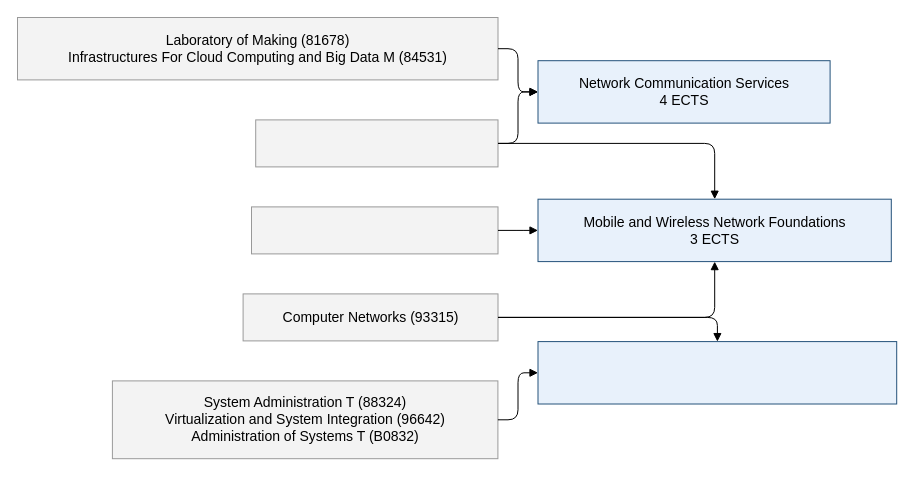
This 915x477 diagram has some shape labels left out. Each missing label, with the centre of its shape:
"Internet of Things (81683)" belongs at (374,230).
"Mobile Systems M (78779)" belongs at (376,143).
"Network Management and Troubleshooting 2 ECTS" belongs at (717,372).
